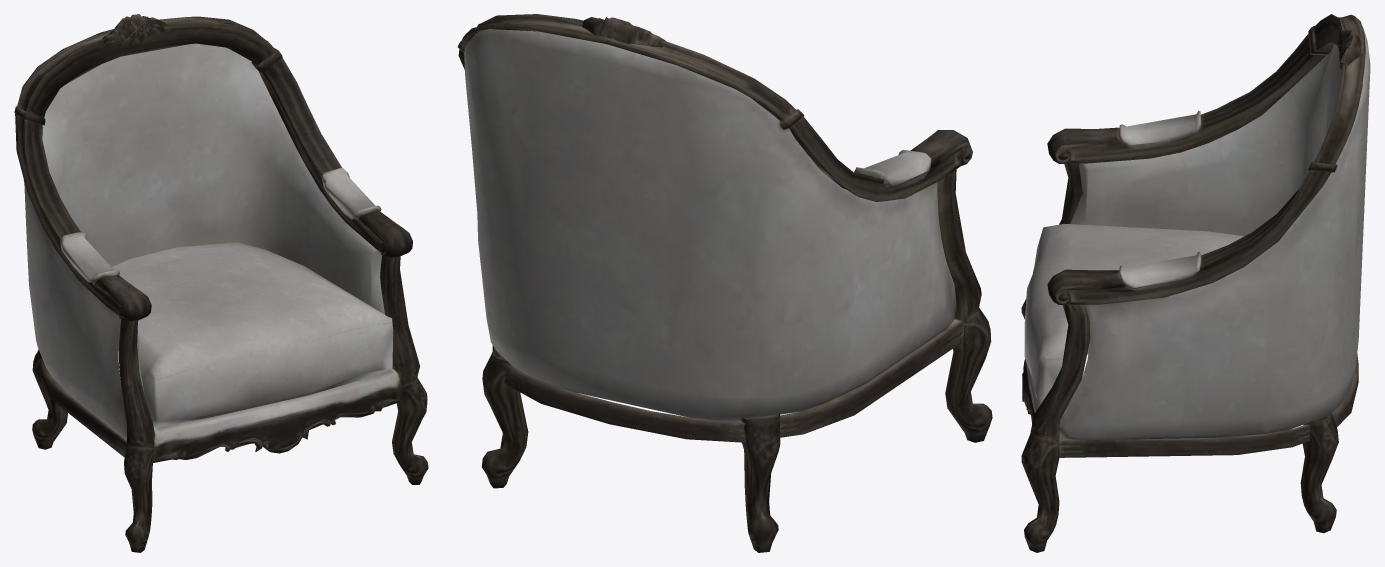
The model's file is ArmChair_01.glb.
The picture shows the model from 3 angles, left to right: view 1: azimuth 30°, elevation 25°; view 2: azimuth 150°, elevation 25°; view 3: azimuth 270°, elevation 25°; orthographic projection. The views are drawn at different scales.
Visible parts, largest first — view 1: ArmChair_01; view 2: ArmChair_01; view 3: ArmChair_01.
Part boxes in pixels (left/top/right/bottom): ArmChair_01: left=14, top=14, right=428, bottom=552; ArmChair_01: left=457, top=14, right=992, bottom=552; ArmChair_01: left=1021, top=14, right=1370, bottom=552.
Bounding box in the file's own units: 0.8482 × 1.06 × 0.7658.
1 material, 1 textured.
